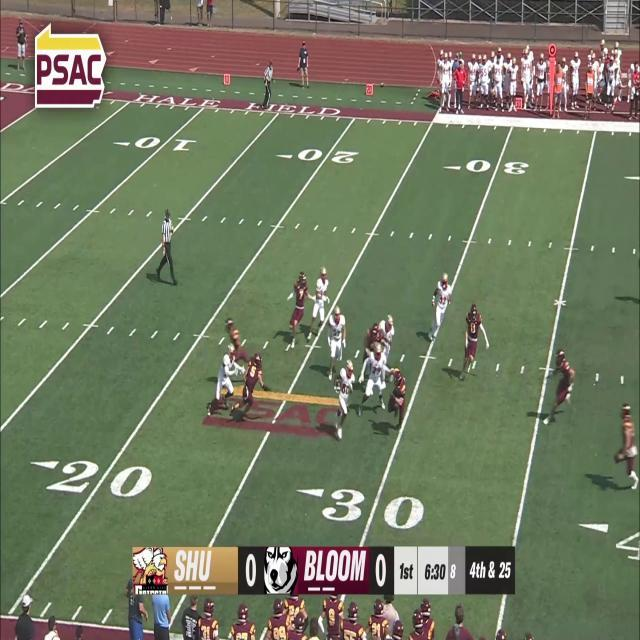football: (336, 378, 342, 392)
